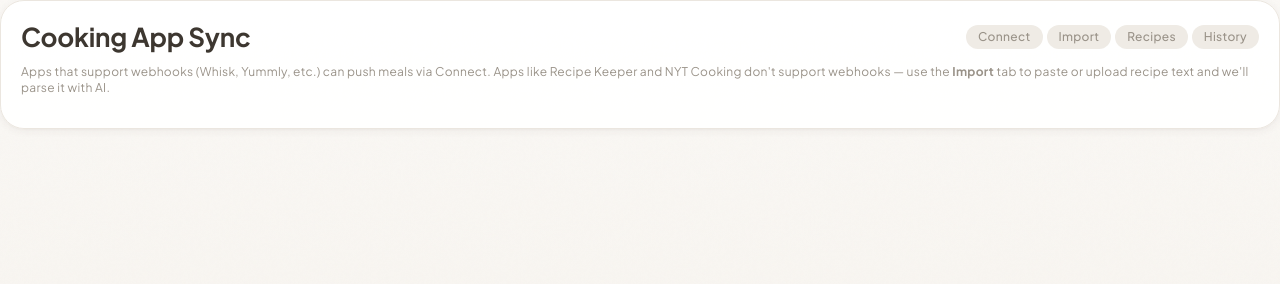
Test case: CookingAppSync › shows Recipes tab with empty state
This screenshot has width=1280, height=284.
Step 1. Click the button "Recipes" → (1152, 37), box [1115,25,1188,49]
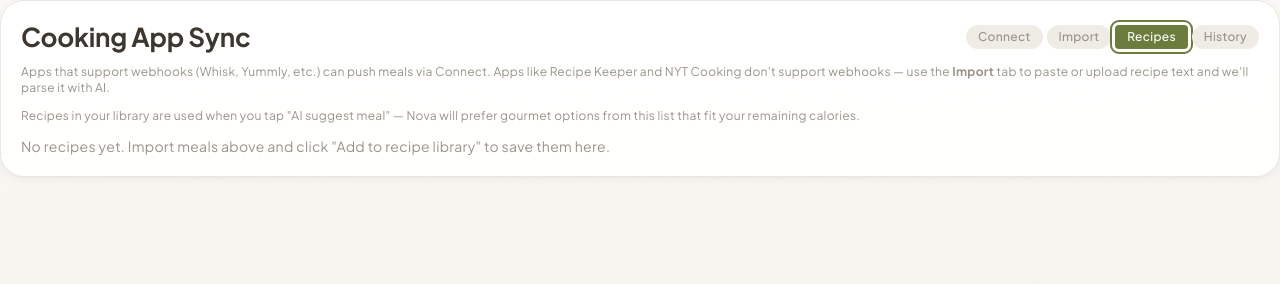
Expected: the text "No recipes yet" is shown, [21,137,610,155]
